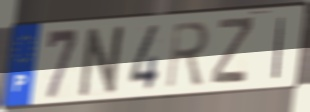4: (126, 21, 164, 93)
7: (45, 28, 80, 101)
I: (270, 15, 287, 81)
N: (75, 22, 130, 100)
R: (164, 19, 211, 91)
Z: (209, 14, 256, 86)
